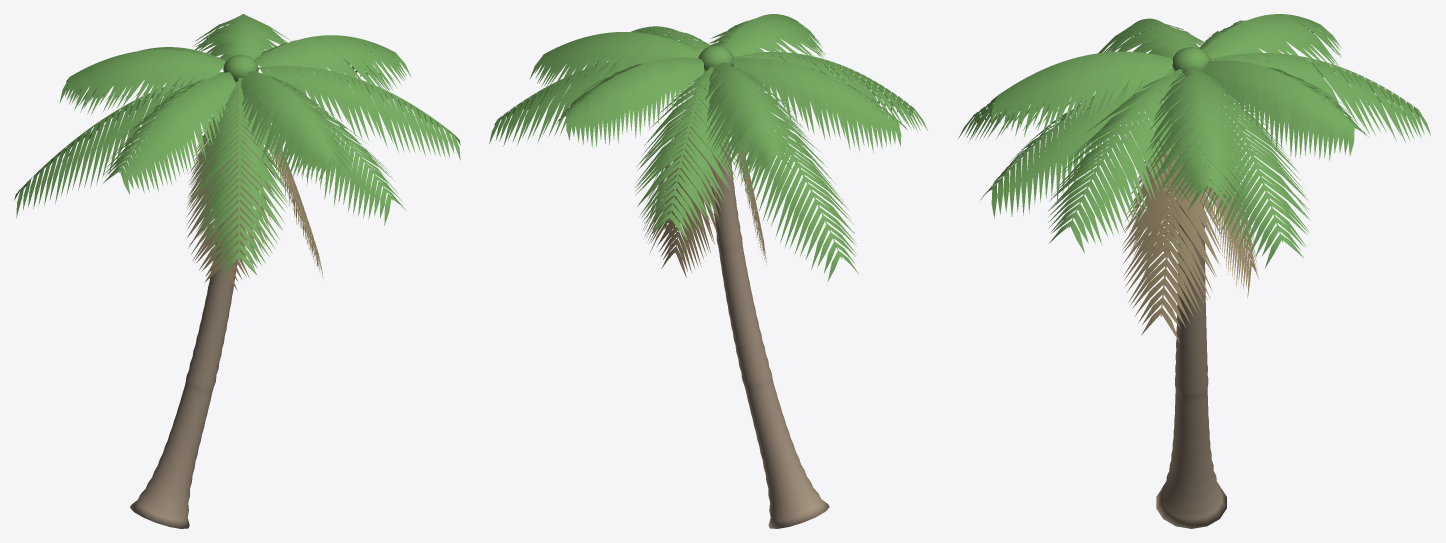
The model's file is palm.glb.
3 views of the same model, side by side, from view 1: azimuth 30°, elevation 25°; view 2: azimuth 150°, elevation 25°; view 3: azimuth 270°, elevation 25° (orthographic). The views are drawn at different scales.
Visible parts, largest first — view 1: Palm; view 2: Palm; view 3: Palm.
Boxes of the visible parts, x1,y1,x2,y2 form: Palm: (14, 14, 460, 528); Palm: (489, 14, 928, 528); Palm: (958, 14, 1431, 528).
Bounding box in the file's own units: 9.96 × 11.67 × 9.82.
